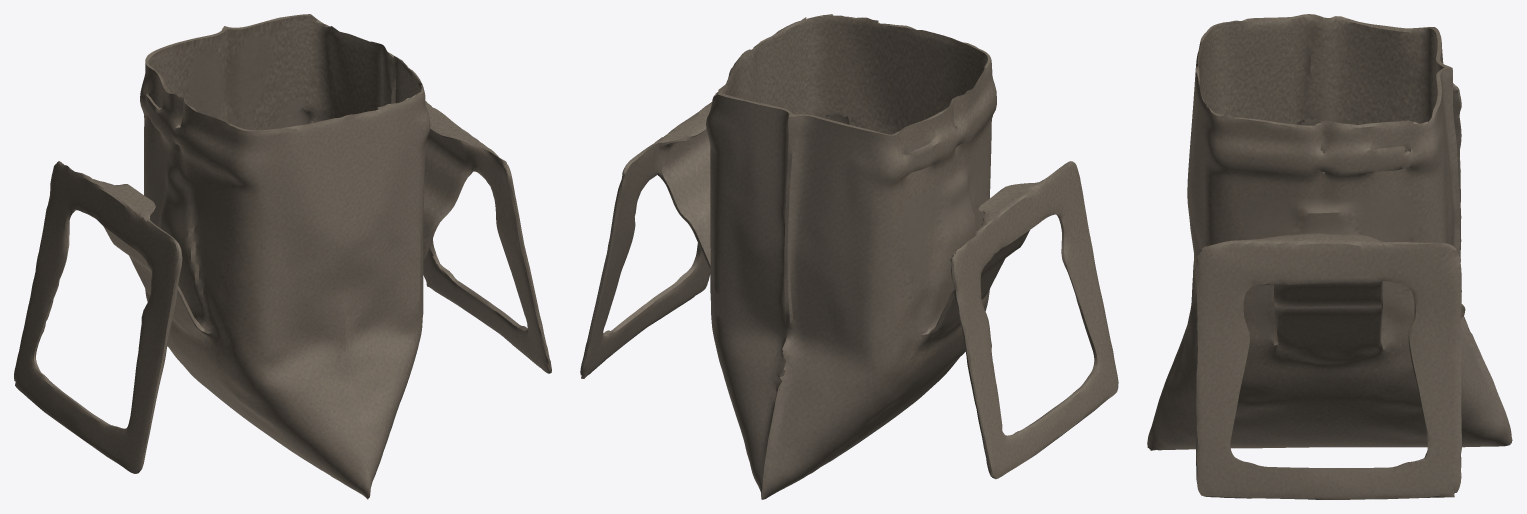
File: dripbag.glb
3 views of the same model, side by side, from view 1: azimuth 30°, elevation 25°; view 2: azimuth 150°, elevation 25°; view 3: azimuth 270°, elevation 25° (orthographic). The views are drawn at different scales.
Parts seen in each view (by area): view 1: Mesh0; view 2: Mesh0; view 3: Mesh0.
Boxes of the visible parts, x1=… form: Mesh0: x1=14, y1=14, x2=551, y2=499; Mesh0: x1=580, y1=14, x2=1118, y2=499; Mesh0: x1=1147, y1=14, x2=1512, y2=499.
Size of the model in its own units: 2 by 1.65 by 1.42.
1 material, 1 textured.
